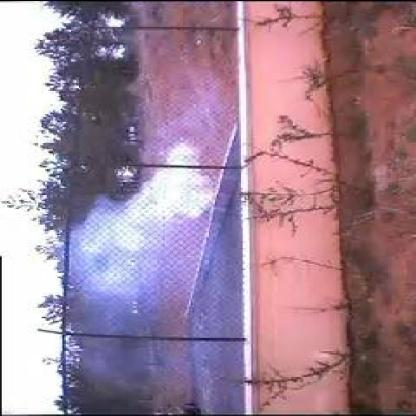-: (62, 142, 246, 334)
